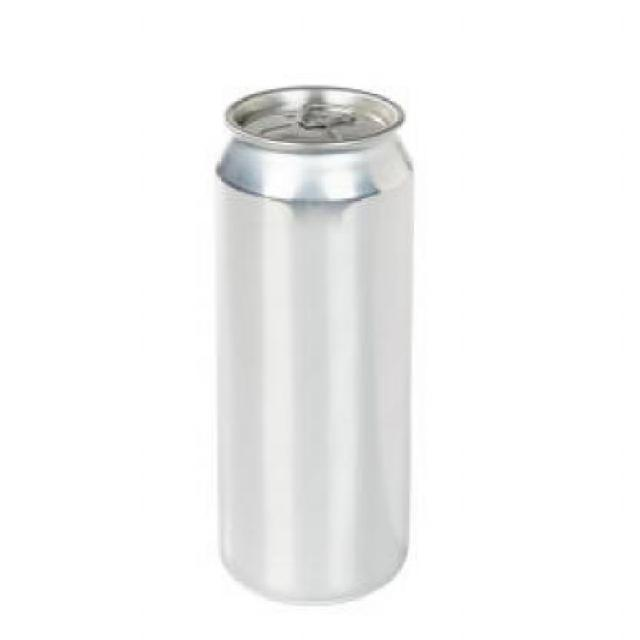can: (211, 74, 437, 611)
